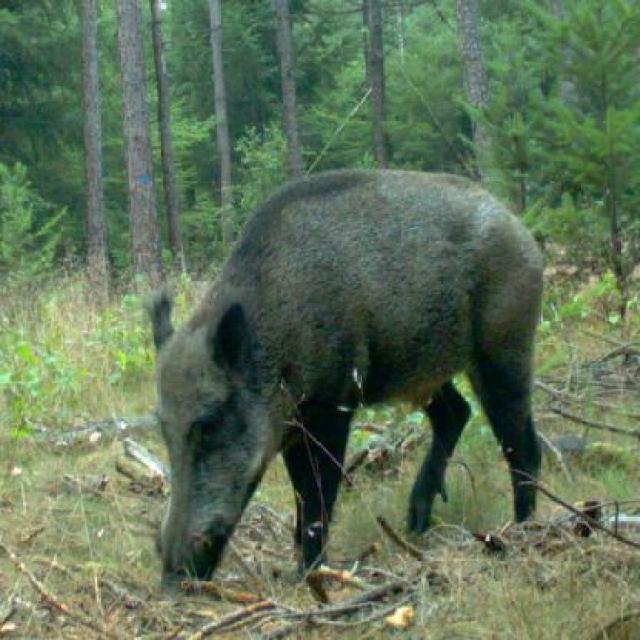Boar: (60, 115, 605, 597)
